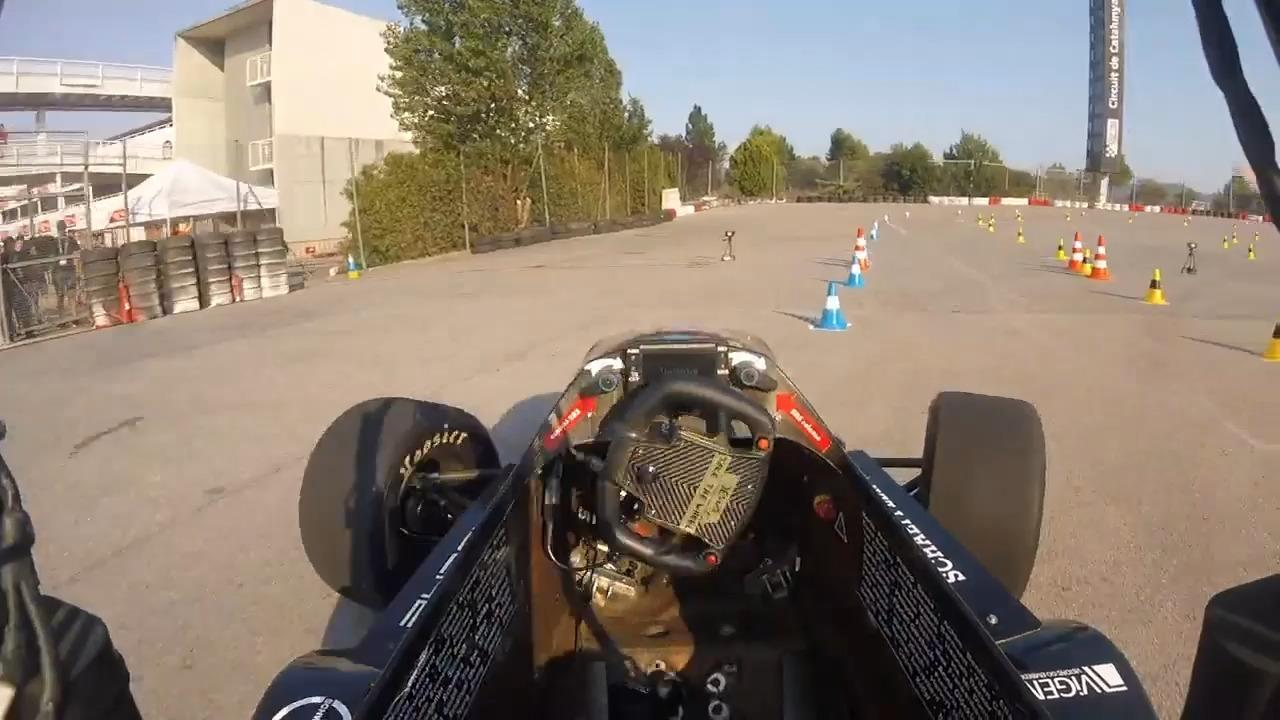blue_cone: (812, 282, 847, 332), (843, 256, 866, 287), (870, 225, 879, 242)
large_orange_cone: (1087, 234, 1111, 281), (852, 227, 872, 271), (1066, 232, 1087, 273)
yellow_cone: (1141, 268, 1169, 306), (1257, 319, 1280, 361), (1076, 247, 1095, 276), (1054, 239, 1069, 261), (1246, 243, 1258, 261), (1016, 228, 1026, 244), (1221, 236, 1230, 249), (1231, 232, 1239, 244), (987, 220, 994, 232), (977, 213, 983, 227)
